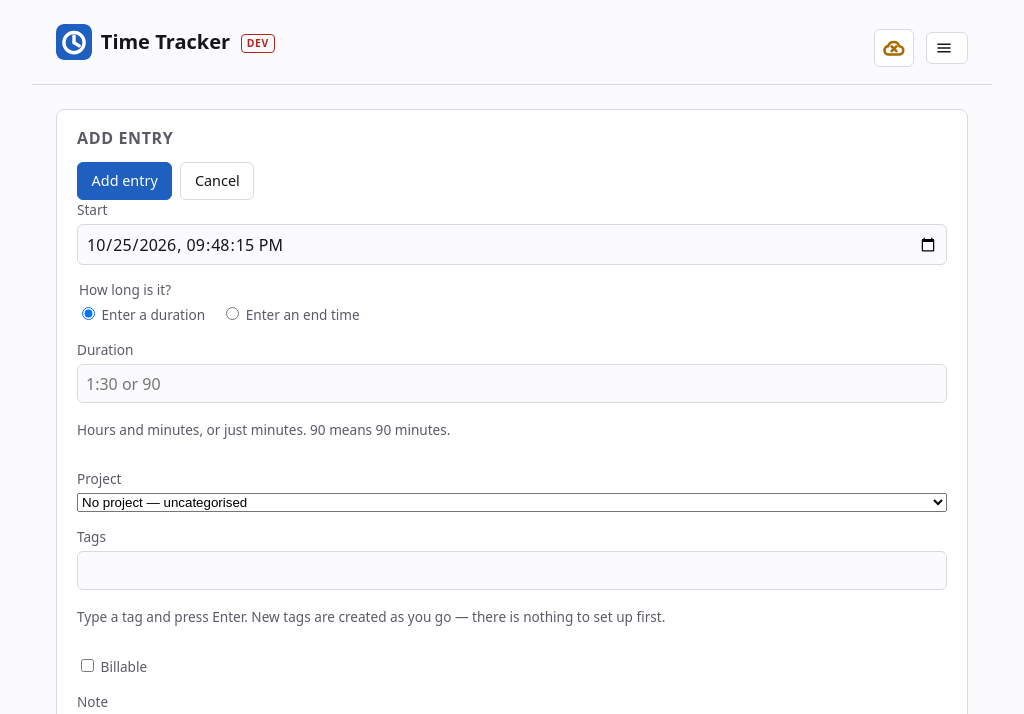
Test case: manual entry (0004 M1–M4) › requires a duration
Click the button "Add entry": (125, 181) [77, 162, 172, 200]
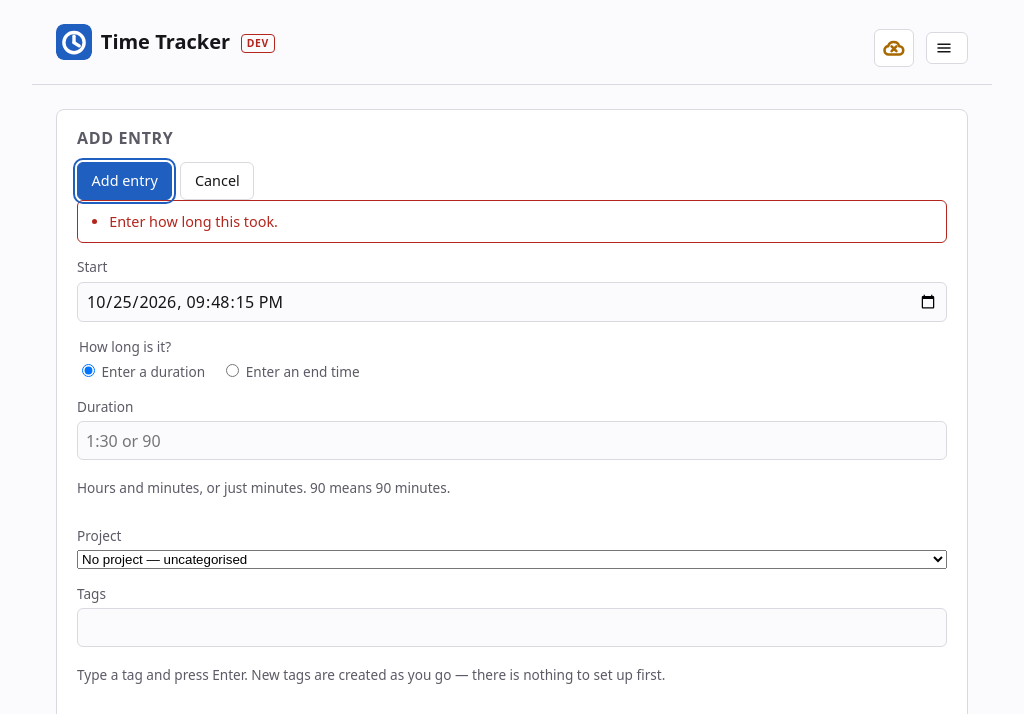
Expected: the message "Enter how long this took." is shown, [77, 200, 947, 243]
